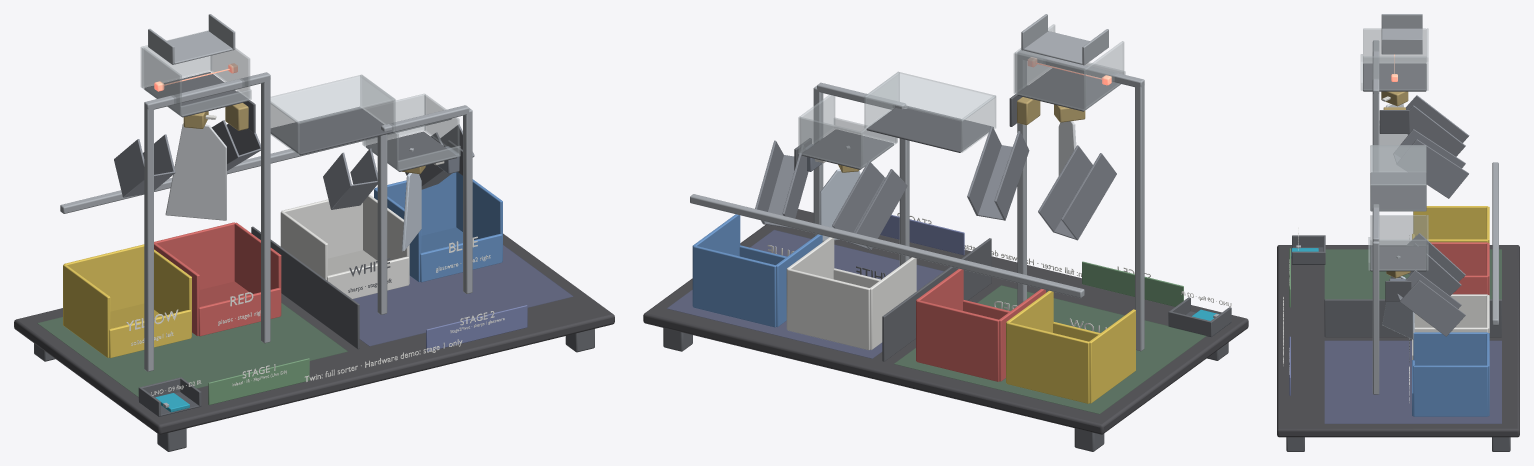
File: bioseg_rig.glb
The picture shows the model from 3 angles, left to right: view 1: azimuth 30°, elevation 25°; view 2: azimuth 150°, elevation 25°; view 3: azimuth 270°, elevation 25°; orthographic projection. The views are drawn at different scales.
Visible parts, largest first — view 1: WorkTop, Stage1Zone, Stage2Zone, FlapBlade, StageDivider, PassRoof, PassFloor, BinRed_Back, BinYellow_Back, BinYellow_Left, BinWhite_Back, PostA (+44 smaller); view 2: WorkTop, Stage1Zone, BinRed_Back, BinYellow_Back, BinWhite_Back, BinBlue_Back, Stage2Zone, BackRail, PassRoof, PassFloor, ChuteWallBack, StageDivider (+39 smaller); view 3: WorkTop, Stage2Zone, BinBlue_Right, Stage1Zone, StageDivider, BinBlue_Left, BinYellow_Left, PassRoof, PassFloor, ChuteWallRight, ChuteRedWallR, ChuteBlueWallR (+34 smaller).
Boxes of the visible parts, x1,y1,x2,y2 form: WorkTop: [14, 233, 614, 434]; Stage1Zone: [37, 302, 347, 397]; Stage2Zone: [353, 245, 573, 346]; FlapBlade: [165, 123, 226, 220]; StageDivider: [251, 226, 359, 349]; PassRoof: [270, 75, 394, 123]; PassFloor: [270, 106, 392, 155]; BinRed_Back: [154, 222, 234, 289]; BinYellow_Back: [64, 244, 144, 311]; BinYellow_Left: [63, 264, 110, 357]; BinWhite_Back: [281, 199, 362, 258]; PostA: [144, 107, 153, 371]; WorkTop: [643, 209, 1248, 434]; Stage1Zone: [894, 285, 1206, 414]; BinRed_Back: [916, 300, 999, 381]; BinYellow_Back: [1006, 322, 1089, 403]; BinWhite_Back: [787, 268, 870, 350]; BinBlue_Back: [693, 245, 776, 327]; Stage2Zone: [667, 229, 943, 358]; BackRail: [690, 194, 1084, 298]; PassRoof: [865, 72, 995, 121]; PassFloor: [866, 106, 993, 152]; ChuteWallBack: [1013, 52, 1085, 110]; StageDivider: [882, 238, 991, 361]; WorkTop: [1277, 245, 1519, 437]; Stage2Zone: [1324, 340, 1501, 423]; BinBlue_Right: [1413, 365, 1487, 416]; Stage1Zone: [1324, 249, 1501, 299]; StageDivider: [1324, 299, 1501, 337]; BinBlue_Left: [1413, 332, 1487, 365]; BinYellow_Left: [1413, 206, 1487, 239]; PassRoof: [1370, 145, 1426, 185]; PassFloor: [1370, 172, 1426, 211]; ChuteWallRight: [1363, 56, 1426, 90]; ChuteRedWallR: [1397, 139, 1468, 198]; ChuteBlueWallR: [1400, 280, 1465, 336].
Size of the model in its own units: 2.35 by 1.71 by 1.3.
